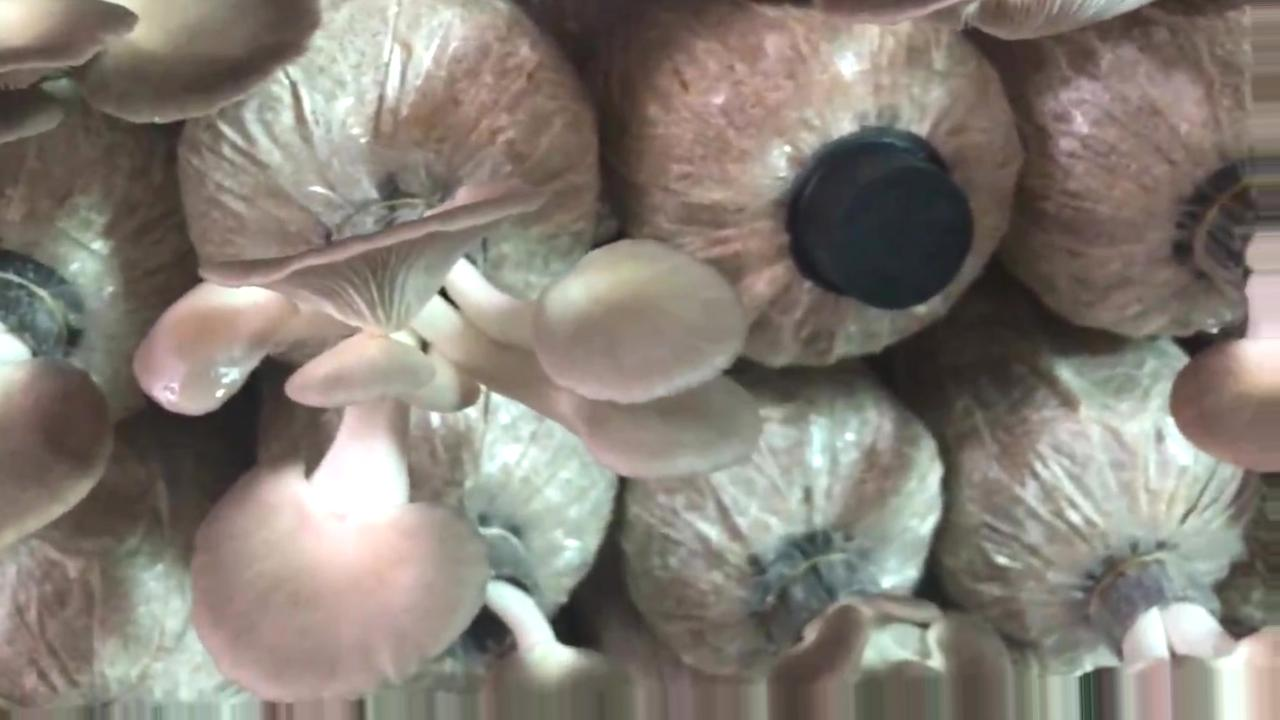nam: (131, 182, 764, 705)
